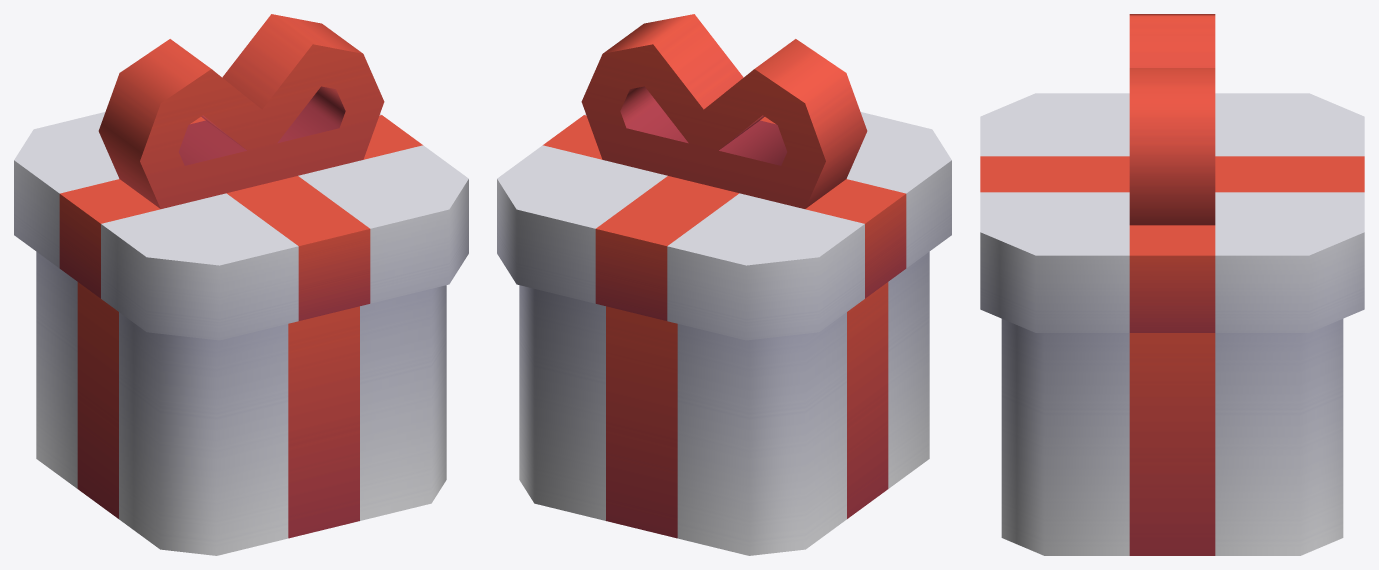
The model's file is cc0-present-cube-lod0.glb.
3 renders of one model, left to right at view 1: azimuth 30°, elevation 25°; view 2: azimuth 150°, elevation 25°; view 3: azimuth 270°, elevation 25°, orthographic. The views are drawn at different scales.
Visible parts, largest first — view 1: part_0; view 2: part_0; view 3: part_0.
Part boxes in pixels (x1,y1,x2,y2): part_0: [14, 14, 468, 555]; part_0: [497, 14, 951, 555]; part_0: [980, 14, 1364, 555].
Size of the model in its own units: 0.45 by 0.5707 by 0.45.
Materials: 1 (1 with a texture image).
